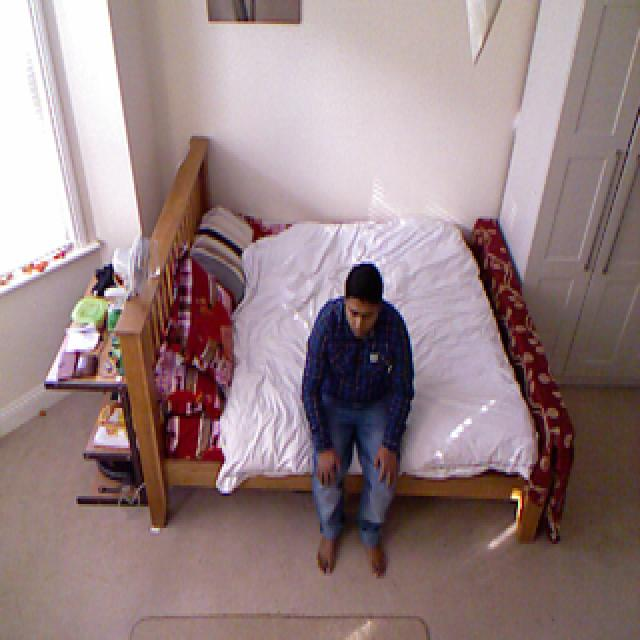sitting: (301, 253, 418, 594)
